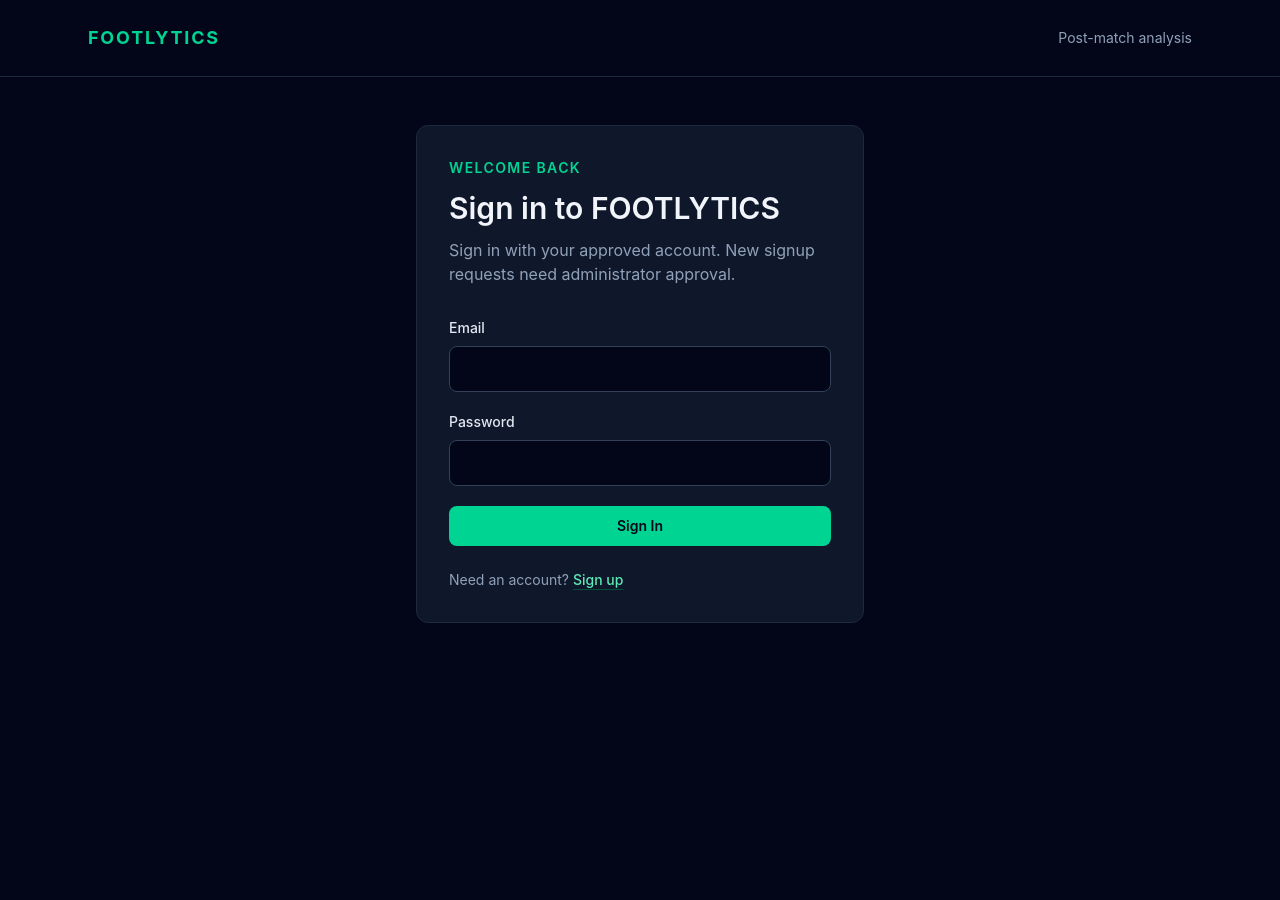
login and protected routes › validates login inputs before sending credentials
Click the button "Sign In" at (640, 526), box x1=449 y1=506 x2=831 y2=546
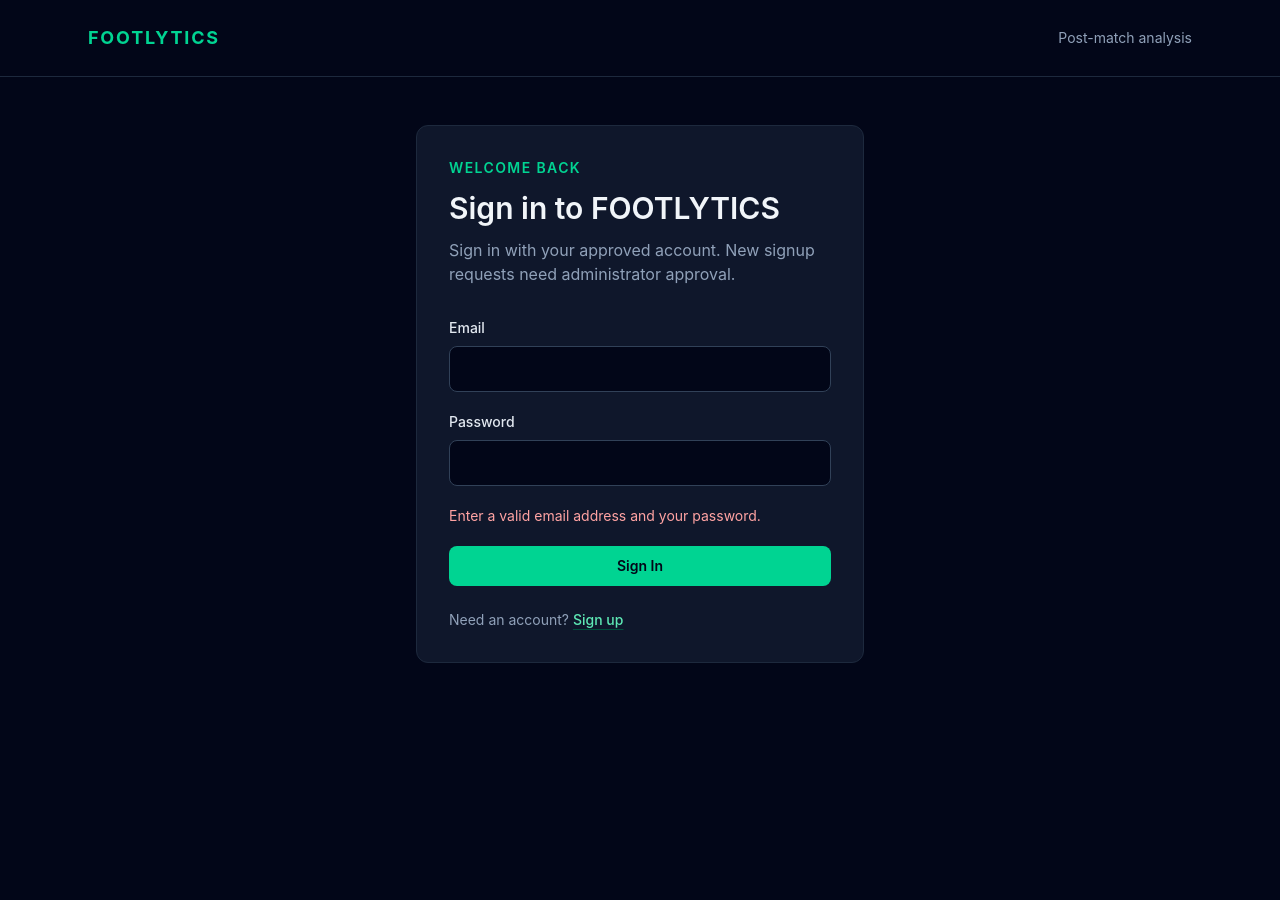
Expected: the message reads "Enter a valid email address and your password.", x1=449 y1=507 x2=761 y2=524
